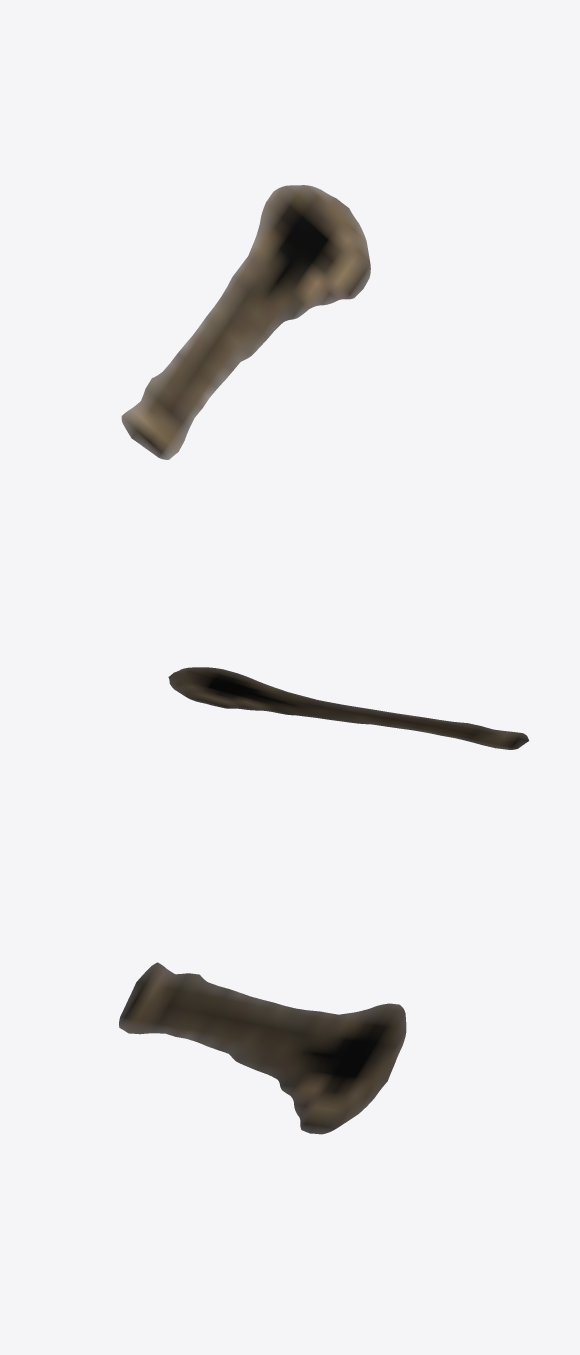
Rendered from Peak_Collar Kaaj.glb.
3 renders of one model, top to bottom at view 1: azimuth 30°, elevation 25°; view 2: azimuth 150°, elevation 25°; view 3: azimuth 270°, elevation 25°, orthographic. The views are drawn at different scales.
Parts seen in each view (by area): view 1: Peak_Kaaj; view 2: Peak_Kaaj; view 3: Peak_Kaaj.
Part boxes in pixels (<box>): Peak_Kaaj: <box>121,185,370,459</box>; Peak_Kaaj: <box>168,667,528,749</box>; Peak_Kaaj: <box>119,962,406,1134</box>.
Size of the model in its own units: 0.00422 by 0.00227 by 0.00281.
Materials: 1 (1 with a texture image).
